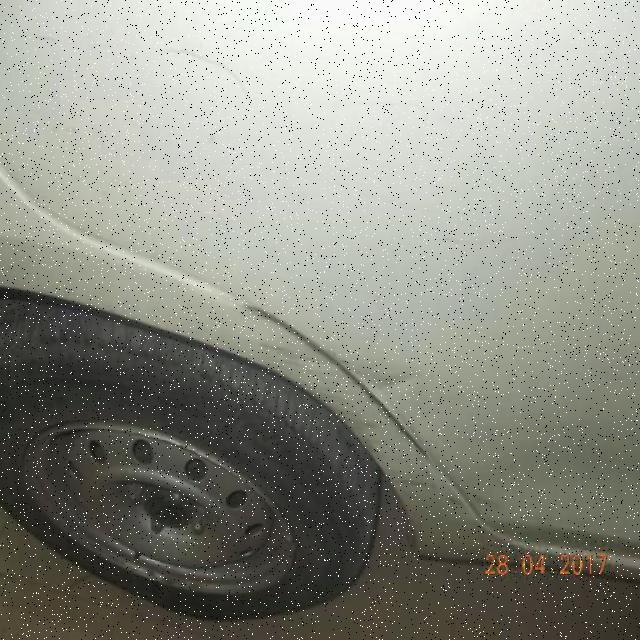car damage: (241, 299, 451, 502), (89, 41, 255, 110), (364, 365, 423, 391)
